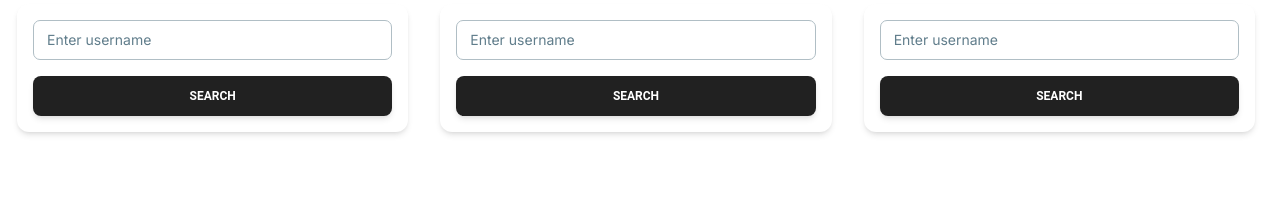
Home › Input username must be more than 1 character when searching
Type "a" into the 1st field named "input-search".
click(213, 40); type("a")  # box [33,20,392,60]
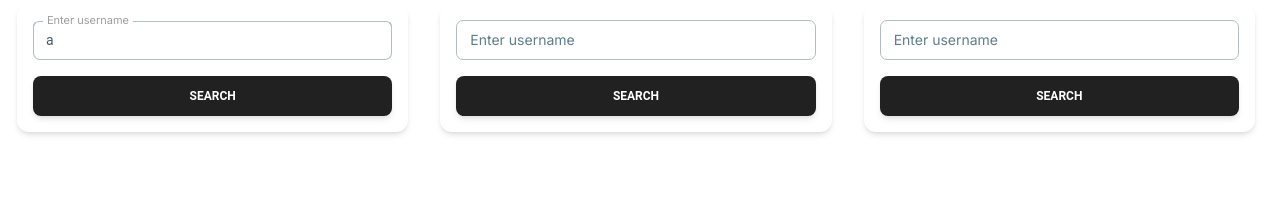
Click the button with aria-label "button-search".
click(213, 96)  # box [33,76,392,116]
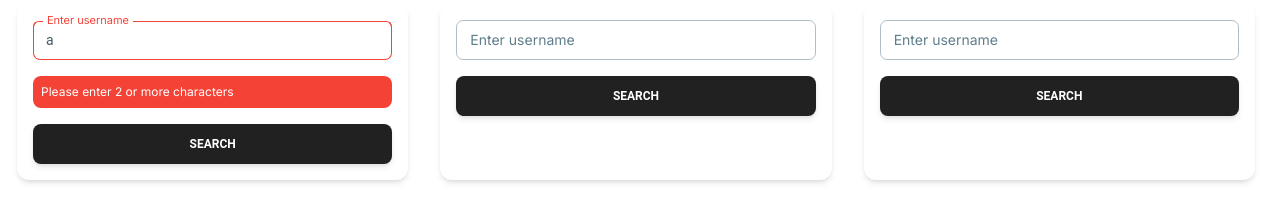
Check: the text "Please enter 2 or more characters" is shown, box [41,84,234,100]
